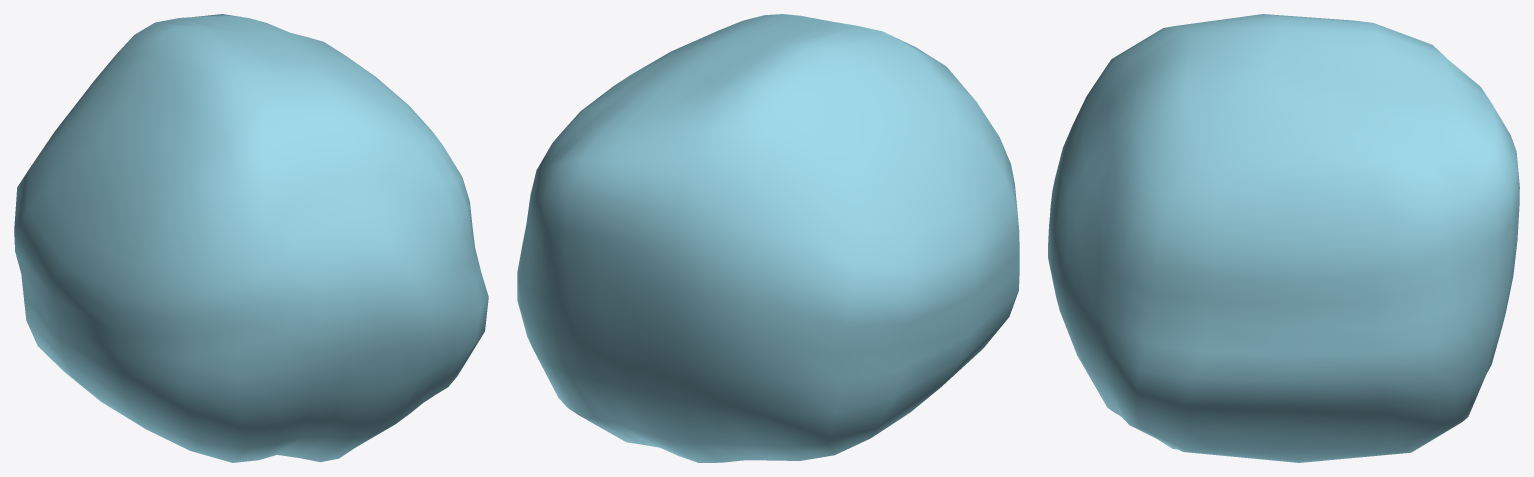
File: Snow_ball.fbx
3 renders of one model, left to right at view 1: azimuth 30°, elevation 25°; view 2: azimuth 150°, elevation 25°; view 3: azimuth 270°, elevation 25°, orthographic. The views are drawn at different scales.
Parts seen in each view (by area): view 1: Snow; view 2: Snow; view 3: Snow.
Part boxes in pixels (x1,y1,x2,y2): Snow: [14, 14, 488, 462]; Snow: [517, 14, 1019, 462]; Snow: [1048, 14, 1519, 462].
Bounding box in the file's own units: 14.12 × 13.76 × 14.47.
